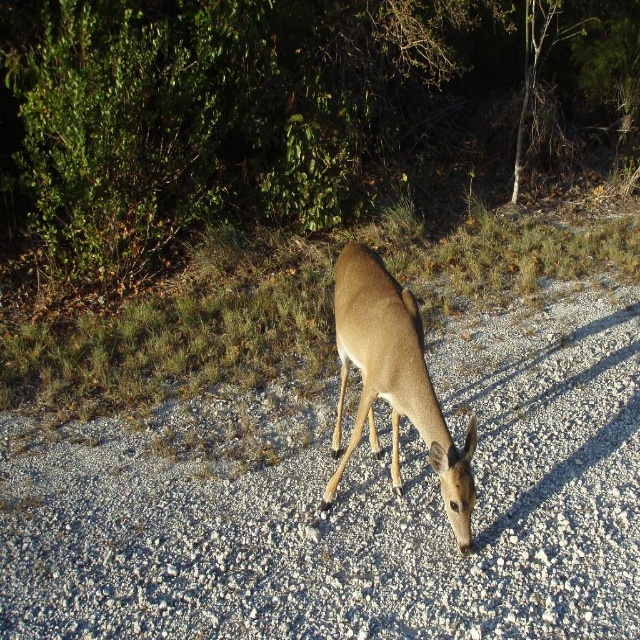Deer: (318, 240, 477, 559)
